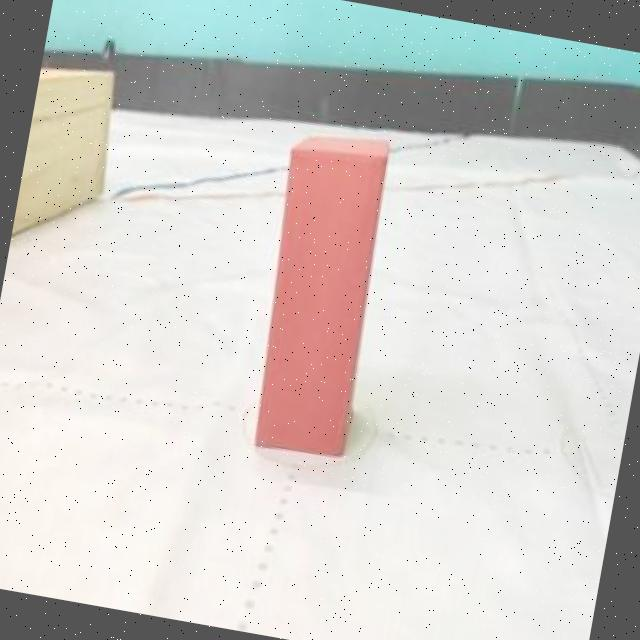redbox: (234, 121, 395, 460)
